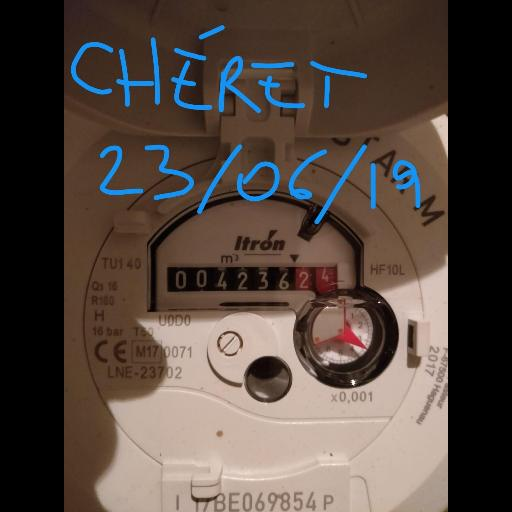0: (190, 267, 212, 292), (172, 267, 190, 292)
2: (230, 266, 254, 293), (296, 267, 316, 292)
3: (253, 267, 273, 292)
4: (315, 266, 338, 294), (212, 267, 232, 292)
6: (273, 267, 296, 292)
border_water_meter_number: (166, 255, 339, 312)
